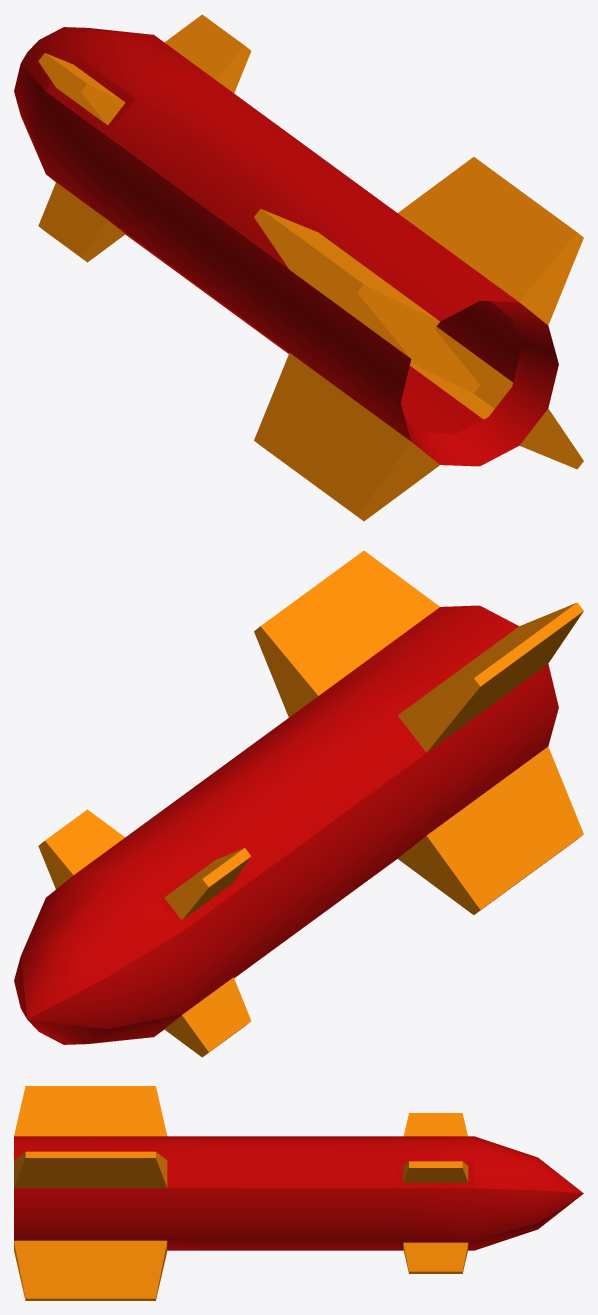
Rendered from Rocket.fbx.
The picture shows the model from 3 angles, top to bottom: view 1: azimuth 30°, elevation 25°; view 2: azimuth 150°, elevation 25°; view 3: azimuth 270°, elevation 25°; orthographic projection. The views are drawn at different scales.
Visible parts, largest first — view 1: Cylinder01; view 2: Cylinder01; view 3: Cylinder01.
Boxes of the visible parts, box(x1,y1,x2,y2) form: Cylinder01: box(14, 14, 583, 521); Cylinder01: box(14, 550, 583, 1057); Cylinder01: box(14, 1086, 583, 1300).
Bounding box in the file's own units: 2.86 × 2.86 × 9.91.
